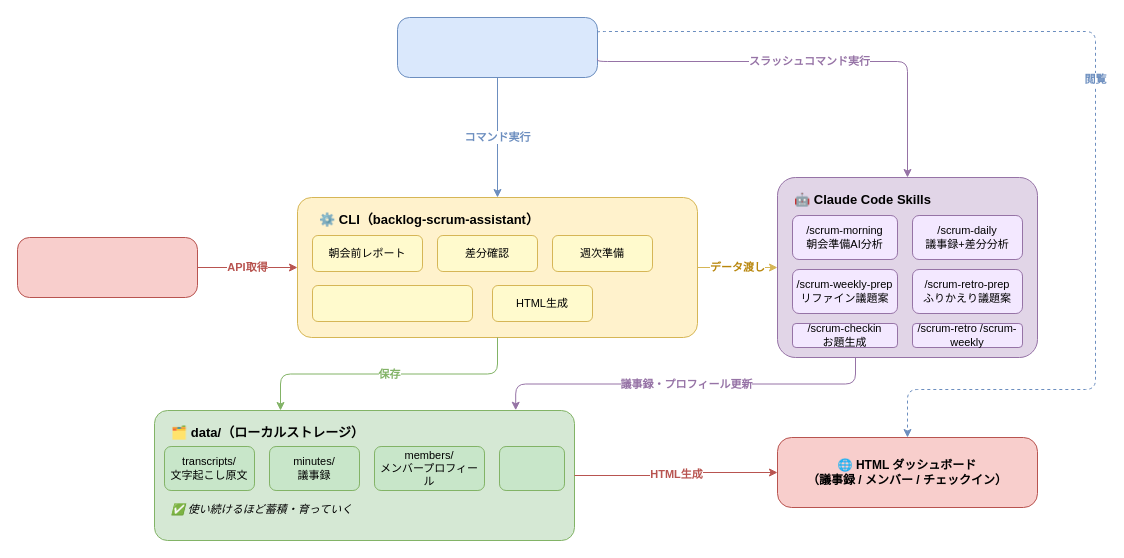
This 1124x558 diagram has some shape labels left out. The shapes that lost their labels are listed below. From the top down, each one's box as (x1, y1, x2, y2) in pixels, then its label:
(396, 16, 598, 78): 👤 スクラムマスター
(16, 236, 198, 298): ☁️ Backlog API
(312, 284, 472, 322): 文字起こし保存/検索
(498, 446, 564, 490): checkin/ お題履歴
